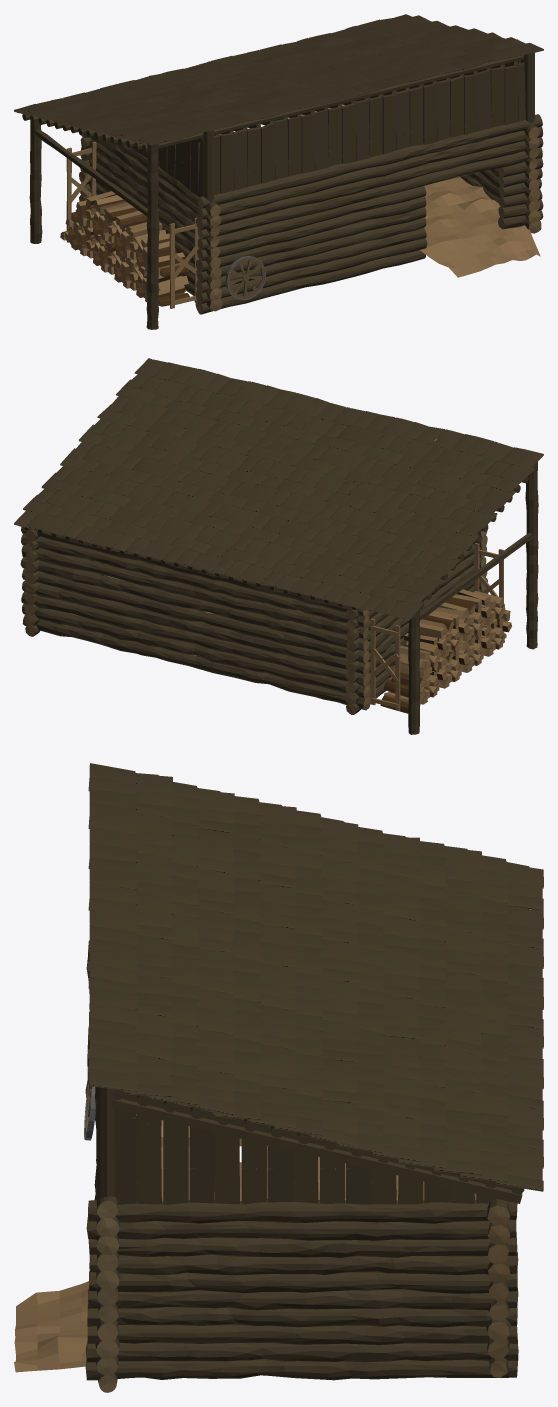
The model's file is stall.glb.
3 renders of one model, top to bottom at view 1: azimuth 30°, elevation 25°; view 2: azimuth 150°, elevation 25°; view 3: azimuth 270°, elevation 25°, orthographic. The views are drawn at different scales.
Visible parts, largest first — view 1: Cylinder.020, Plane.010, Cube.037, Plane.019, Cube.108, Cylinder.023, Cylinder.101, Cylinder.024, Cube.109, Cylinder.021, Cube.039, haywagon.001 (+4 smaller); view 2: Plane.010, Cylinder.022, Cube.108, Cylinder.101, Cylinder.023, Cube.109, Cylinder.021, Cube.041, Cylinder.024; view 3: Plane.010, Cylinder.021, Cube.038, Plane.019, Cube.041, Cylinder.020, Cylinder.022, Cylinder.026, Cylinder.024.
Boxes of the visible parts, <box> form: Cylinder.020: <box>195,114,543,314</box>; Plane.010: <box>14,14,543,145</box>; Cube.037: <box>214,62,525,194</box>; Plane.019: <box>284,176,540,282</box>; Cube.108: <box>60,191,189,306</box>; Cylinder.023: <box>81,136,222,311</box>; Cylinder.101: <box>29,115,159,329</box>; Cylinder.024: <box>22,55,523,151</box>; Cube.109: <box>66,142,199,308</box>; Cylinder.021: <box>409,78,541,233</box>; Cube.039: <box>131,140,202,196</box>; haywagon.001: <box>225,255,265,300</box>; Plane.010: <box>14,358,543,620</box>; Cylinder.022: <box>20,527,370,710</box>; Cube.108: <box>380,589,511,713</box>; Cylinder.101: <box>408,462,538,734</box>; Cylinder.023: <box>345,541,475,714</box>; Cube.109: <box>370,543,504,711</box>; Cylinder.021: <box>24,515,116,636</box>; Cube.041: <box>24,437,429,610</box>; Cylinder.024: <box>74,434,536,618</box>; Plane.010: <box>88,763,543,1191</box>; Cylinder.021: <box>85,1199,518,1380</box>; Cube.038: <box>114,1109,495,1204</box>; Plane.019: <box>14,1146,424,1372</box>; Cube.041: <box>111,1090,522,1203</box>; Cylinder.020: <box>94,1087,119,1392</box>; Cylinder.022: <box>486,1198,510,1377</box>; Cylinder.026: <box>97,1087,115,1199</box>; Cylinder.024: <box>114,906,524,1194</box>.
Size of the model in its own units: 4.3 by 1.98 by 2.98.
Materials: 5 (1 with a texture image).
